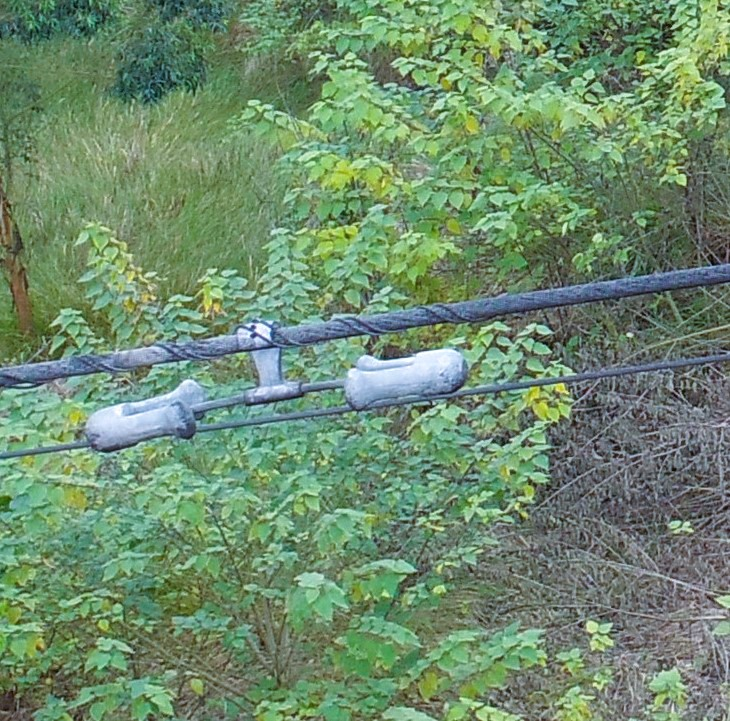Shockproof hammer: (73, 289, 478, 456)
